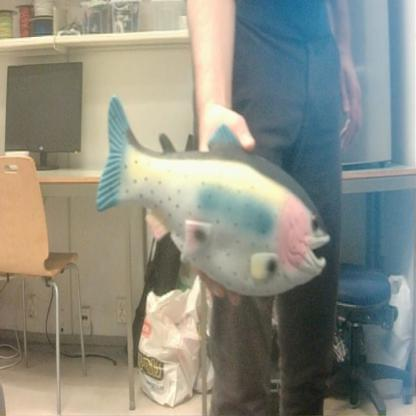rubberfish: (93, 90, 333, 302)
